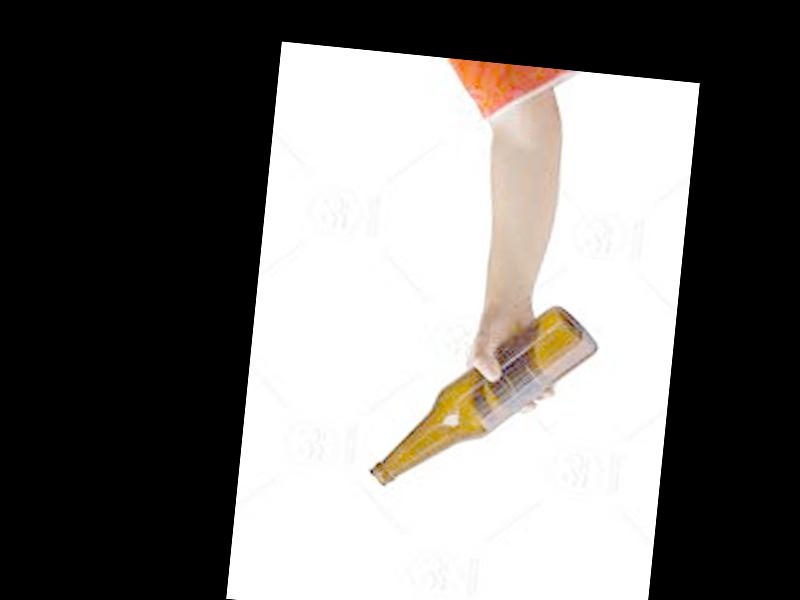Beer: (369, 289, 603, 505)
